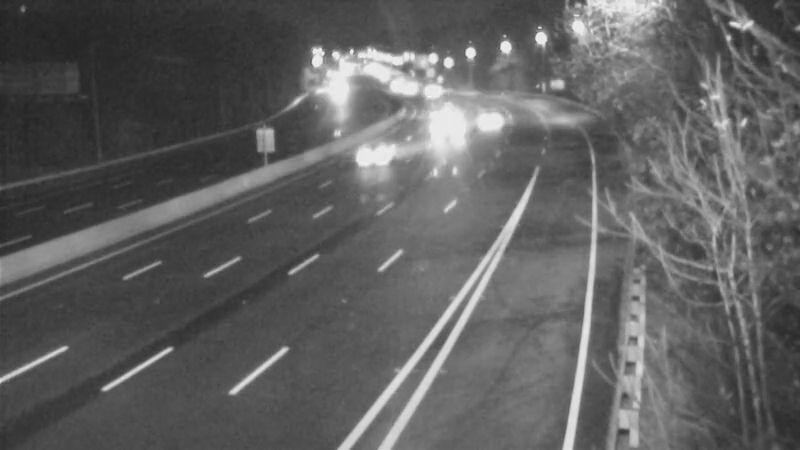vehicle: (346, 111, 426, 191), (405, 63, 455, 113), (416, 83, 466, 133), (459, 96, 509, 146), (417, 111, 467, 161)
